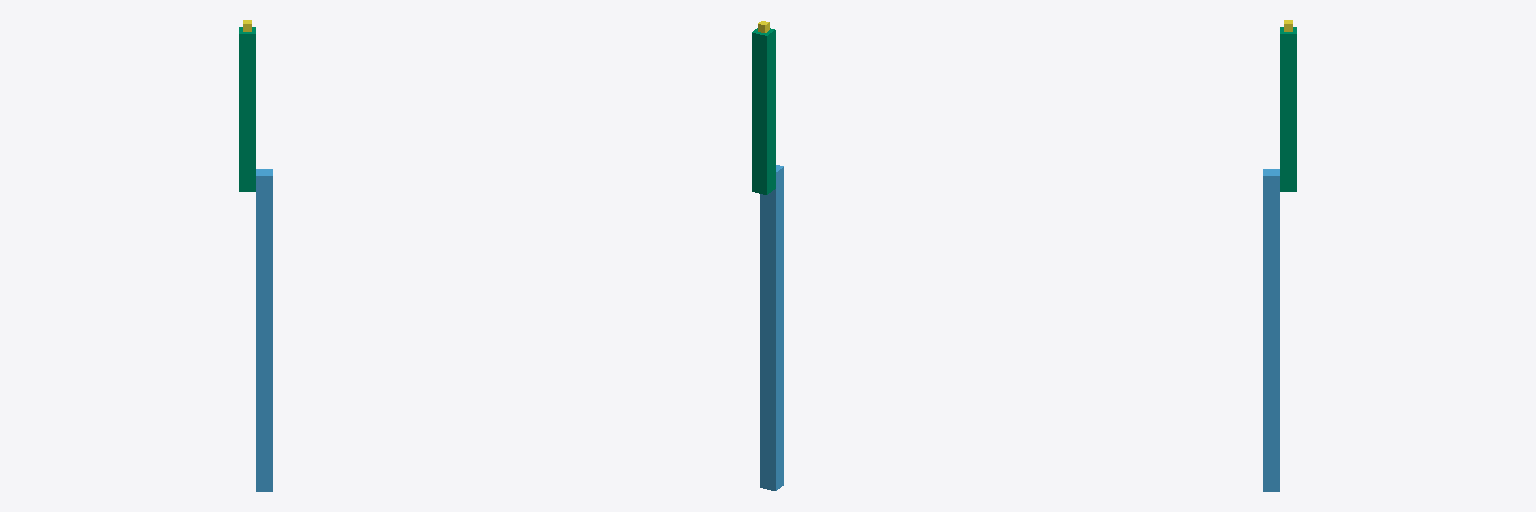
URDF robot description (1linkrobot):
<?xml version="1.0" ?>
<!-- =================================================================================== -->
<!-- |    This document was autogenerated by xacro from urdf/1link.xacro               | -->
<!-- |    EDITING THIS FILE BY HAND IS NOT RECOMMENDED                                 | -->
<!-- =================================================================================== -->
<!-- 1 link Manipulator -->
<robot name="1linkrobot">
  <!-- Space btw top of beam and the each joint -->
  <!-- Used for fixing robot to world -->
  <link name="world"/>
  <joint name="fixed" type="fixed">
    <parent link="world"/>
    <child link="link1"/>
  </joint>
  <!-- Base Link -->
  <link name="link1">
    <collision>
      <origin rpy="0 0 0" xyz="0 0 1.0"/>
      <geometry>
        <box size="0.1 0.1 2"/>
      </geometry>
    </collision>
    <visual>
      <origin rpy="0 0 0" xyz="0 0 1.0"/>
      <geometry>
        <box size="0.1 0.1 2"/>
      </geometry>
      <material name="orange"/>
    </visual>
    <inertial>
      <origin rpy="0 0 0" xyz="0 0 1.0"/>
      <mass value="1"/>
      <inertia ixx="0.3341666666666666" ixy="0.0" ixz="0.0" iyy="0.3341666666666666" iyz="0.0" izz="0.001666666666666667"/>
    </inertial>
  </link>
  <joint name="joint1" type="continuous">
    <parent link="link1"/>
    <child link="link2"/>
    <origin rpy="0 0 0" xyz="0 0.1 1.95"/>
    <axis xyz="0 1 0"/>
    <dynamics damping="0.7"/>
  </joint>
  <!-- Middle Link -->
  <link name="link2">
    <collision>
      <origin rpy="0 0 0" xyz="0 0 0.45"/>
      <geometry>
        <box size="0.1 0.1 1"/>
      </geometry>
    </collision>
    <visual>
      <origin rpy="0 0 0" xyz="0 0 0.45"/>
      <geometry>
        <box size="0.1 0.1 1"/>
      </geometry>
      <material name="black"/>
    </visual>
    <inertial>
      <origin rpy="0 0 0" xyz="0 0 0.45"/>
      <mass value="1"/>
      <inertia ixx="0.08416666666666667" ixy="0.0" ixz="0.0" iyy="0.08416666666666667" iyz="0.0" izz="0.001666666666666667"/>
    </inertial>
  </link>
  <joint name="ee_fixed_joint" type="fixed">
    <origin rpy="0 0 0" xyz="0 0 0.95"/>
    <parent link="link2"/>
    <child link="ee_link"/>
  </joint>
  <!-- end-effector link -->
  <link name="ee_link">
    <collision>
      <origin rpy="0 0 0" xyz="0 0 0.025"/>
      <geometry>
        <box size="0.05 0.05 0.05"/>
      </geometry>
    </collision>
    <visual>
      <origin rpy="0 0 0" xyz="0 0 0.025"/>
      <geometry>
        <box size="0.05 0.05 0.05"/>
      </geometry>
      <material name="red"/>
    </visual>
    <inertial>
      <mass value="1e-5"/>
      <origin rpy="0 0 0" xyz="0 0 0"/>
      <inertia ixx="1e-6" ixy="0" ixz="0" iyy="1e-6" iyz="0" izz="1e-6"/>
    </inertial>
  </link>
</robot>

--- Render facts (derived) ---
3 views of the same robot in one strip: view 1: azimuth 90°, elevation 25°; view 2: azimuth 150°, elevation 25°; view 3: azimuth 270°, elevation 25° (orthographic).
Model 1linkrobot with 4 links and 3 joints (1 continuous, 2 fixed), rooted at world, posed all joints at 0.
Links seen in each view (by area): view 1: link1, link2; view 2: link1, link2; view 3: link1, link2.
Boxes of the visible links, x1,y1,x2,y2 form: link1: [256, 169, 272, 491]; link2: [239, 27, 255, 191]; link1: [760, 165, 783, 490]; link2: [752, 28, 775, 194]; link1: [1263, 169, 1279, 491]; link2: [1280, 27, 1296, 191].
Size in the robot's own frame: 0.1 by 0.2 by 2.95 metres.
Geometry: primitives only (box / cylinder / sphere), no mesh files.